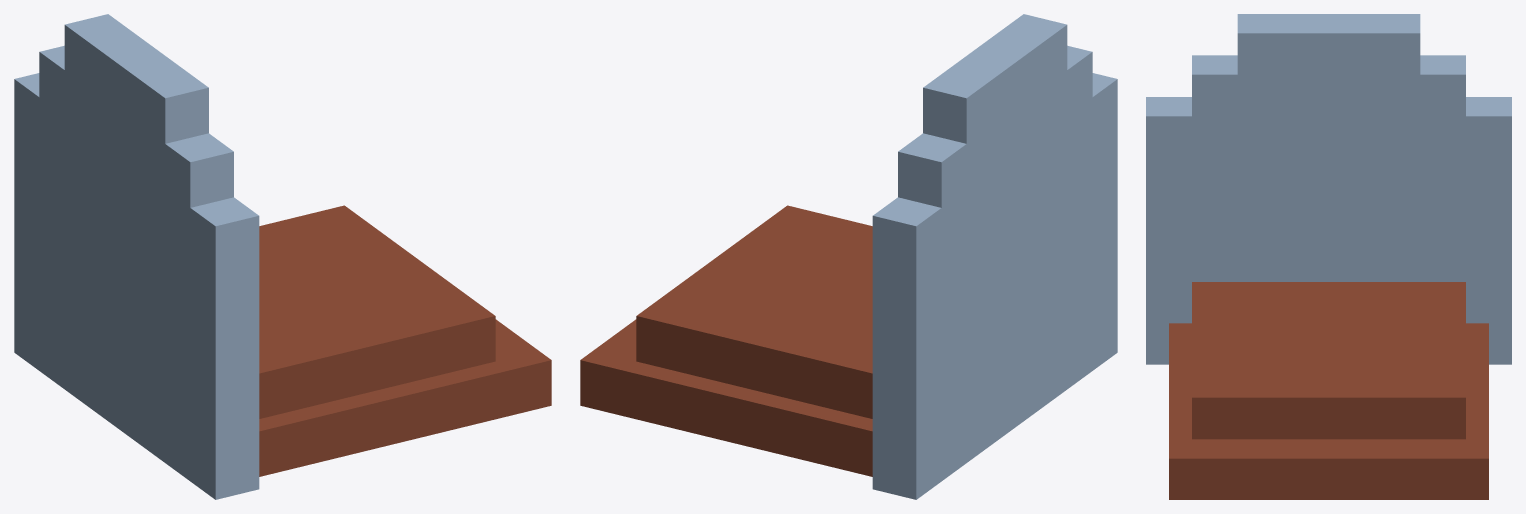
The model's file is tomb-01.glb.
The picture shows the model from 3 angles, left to right: view 1: azimuth 30°, elevation 25°; view 2: azimuth 150°, elevation 25°; view 3: azimuth 270°, elevation 25°; orthographic projection. The views are drawn at different scales.
Parts seen in each view (by area): view 1: generated(Clone); view 2: generated(Clone); view 3: generated(Clone).
Part boxes in pixels (x1,y1,x2,y2): generated(Clone): (14,14,551,499); generated(Clone): (580,14,1117,499); generated(Clone): (1146,14,1511,499).
Size of the model in its own units: 8 by 8 by 8.
1 material, 1 textured.
